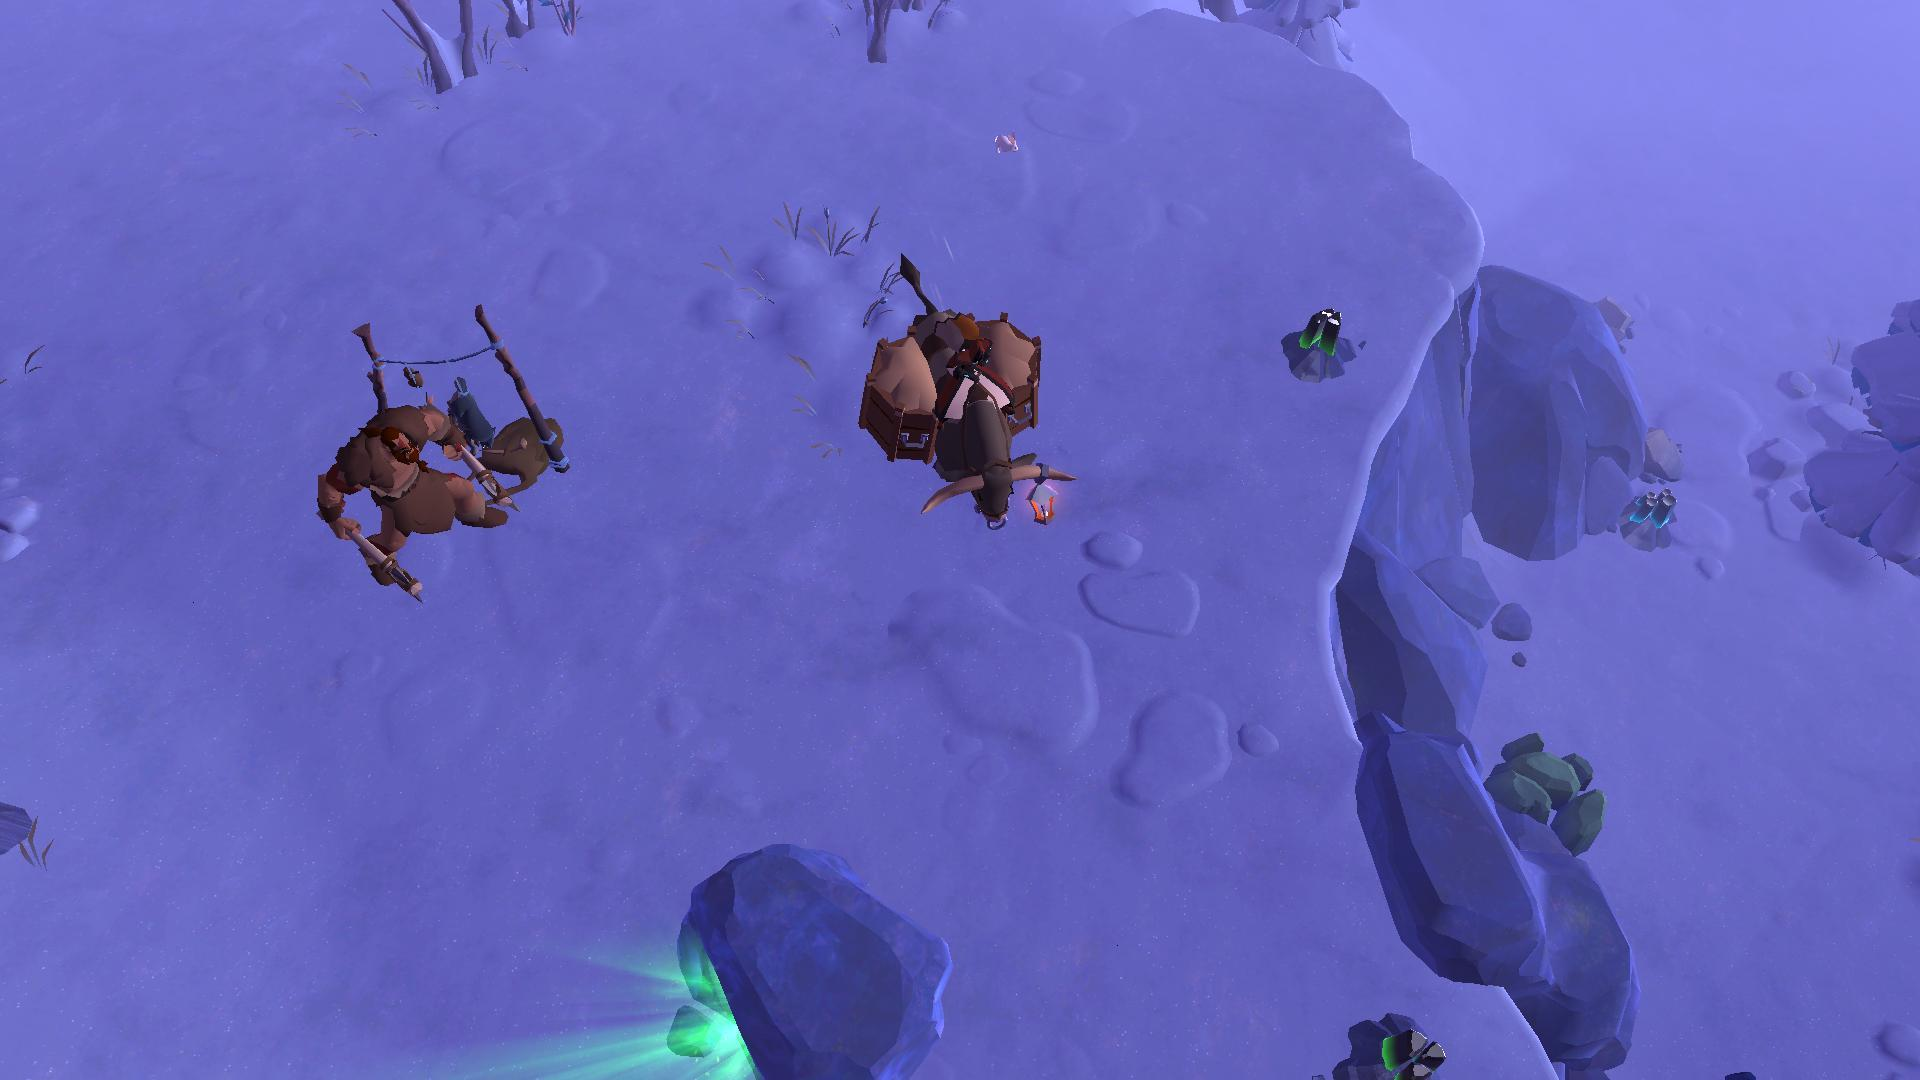enemy_factionKeeper: (310, 398, 512, 588)
ore_t3: (1382, 1022, 1447, 1080), (1292, 309, 1354, 355)
ore_t4: (1627, 484, 1676, 533)
rock_t3: (1478, 724, 1622, 866)
